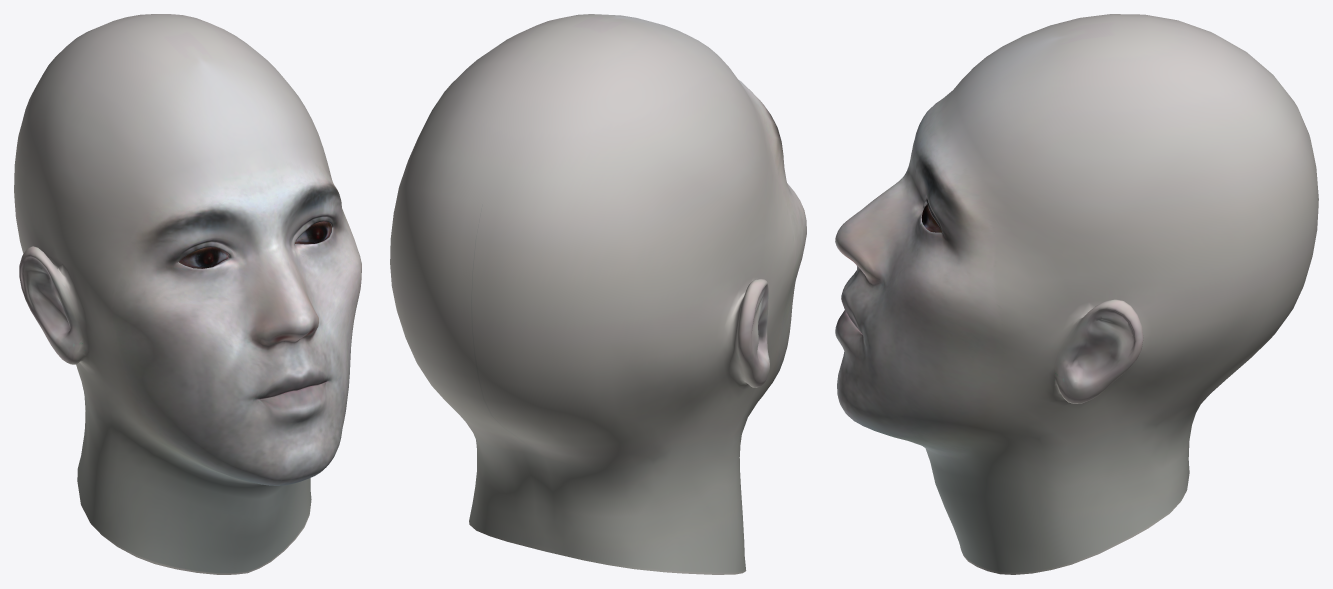
3 views of the same model, side by side, from view 1: azimuth 30°, elevation 25°; view 2: azimuth 150°, elevation 25°; view 3: azimuth 270°, elevation 25° (orthographic). The views are drawn at different scales.
Visible parts, largest first — view 1: skin_hi, eyeR_hi, eyeL_hi; view 2: skin_hi; view 3: skin_hi.
Boxes of the visible parts, <box> form: skin_hi: <box>14,14,361,574</box>; eyeR_hi: <box>179,247,228,268</box>; eyeL_hi: <box>295,221,331,244</box>; skin_hi: <box>390,14,806,574</box>; skin_hi: <box>835,14,1318,574</box>.
Size of the model in its own units: 181 by 282 by 237.
